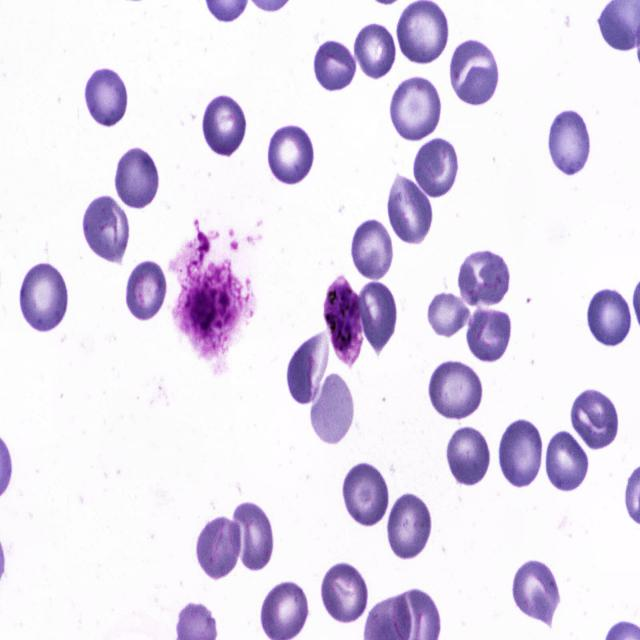red blood cell: (394, 0, 452, 67), (80, 192, 131, 266), (192, 514, 242, 584), (19, 263, 68, 334), (310, 370, 355, 447), (386, 174, 434, 246), (390, 76, 442, 142), (319, 560, 370, 626), (511, 557, 561, 623), (428, 360, 483, 420), (450, 41, 499, 107), (568, 390, 621, 451), (342, 461, 390, 528), (498, 418, 543, 488), (547, 110, 594, 177), (387, 493, 433, 561), (231, 500, 273, 573), (114, 146, 161, 211), (458, 251, 511, 308), (84, 64, 131, 128), (202, 94, 248, 158), (350, 217, 396, 281), (412, 138, 459, 200), (446, 426, 492, 489), (359, 281, 398, 355), (124, 258, 169, 322), (544, 431, 589, 494), (285, 335, 326, 404), (268, 124, 314, 185), (466, 307, 516, 363), (353, 20, 396, 80), (587, 288, 630, 346), (314, 38, 356, 93), (428, 290, 470, 338)
schizont: (322, 274, 364, 368)
